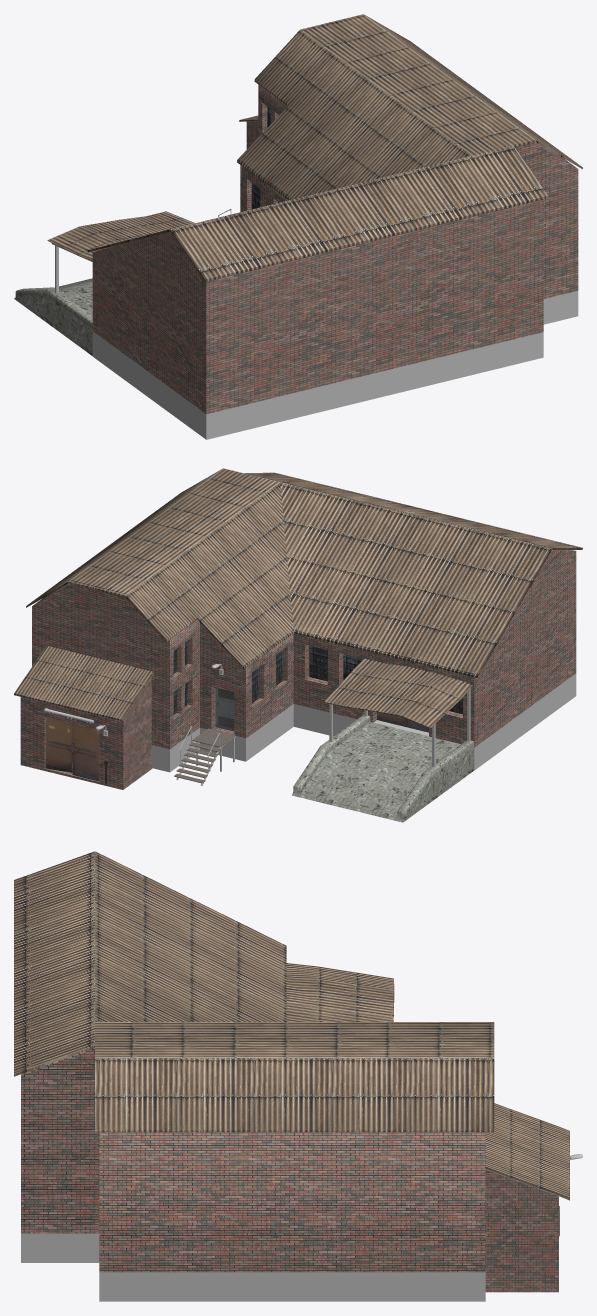
File: house2_lod0.fbx
3 views of the same model, one above another, from view 1: azimuth 30°, elevation 25°; view 2: azimuth 150°, elevation 25°; view 3: azimuth 270°, elevation 25° (orthographic). The views are drawn at different scales.
Visible parts, largest first — view 1: Mesh Object, Mesh Object_ncl1_1; view 2: Mesh Object, Mesh Object_ncl1_1, Mesh Object_ncl1_2; view 3: Mesh Object, Mesh Object_ncl1_1.
Boxes of the visible parts, x1,y1,x2,y2 form: Mesh Object: (14,14,582,439); Mesh Object_ncl1_1: (47,211,194,293); Mesh Object: (14,468,582,822); Mesh Object_ncl1_1: (324,658,472,767); Mesh Object_ncl1_2: (44,663,235,785); Mesh Object: (14,851,569,1301); Mesh Object_ncl1_1: (286,963,394,1021).
Size of the model in its own units: 19.17 by 8.49 by 19.73.
